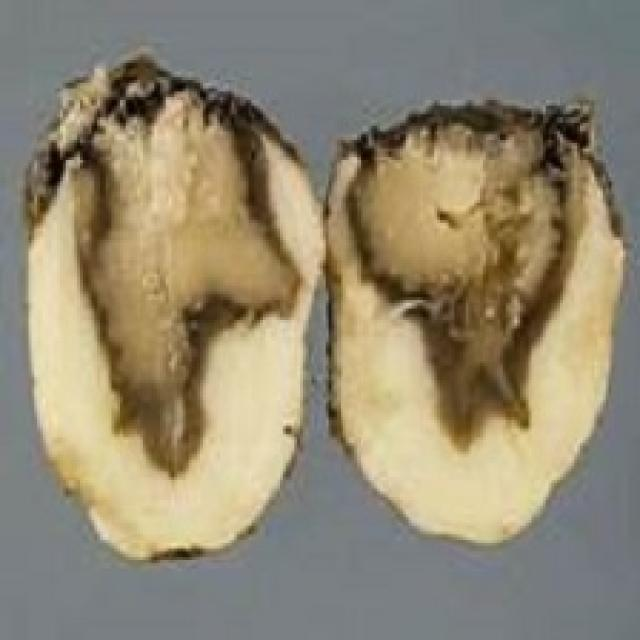blackleg: (13, 42, 326, 566), (320, 88, 634, 554)
